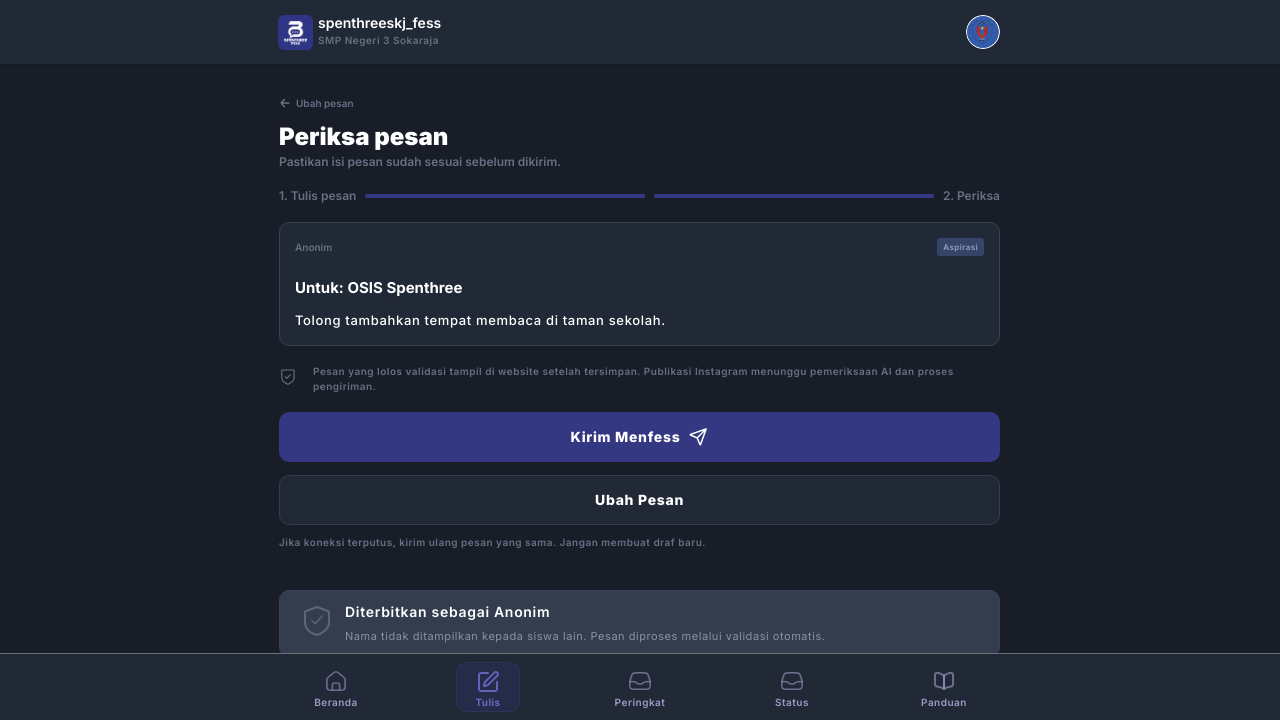
Test: preserved menfess integration › does not infer website publication from a legacy queued receipt
The image size is (1280, 720).
Expected: the text "Publikasi Instagram menunggu pemeriksaan AI" is shown, [313,365,954,392]
Click the button "Kirim Menfess": (640, 437) [279,412,1000,462]
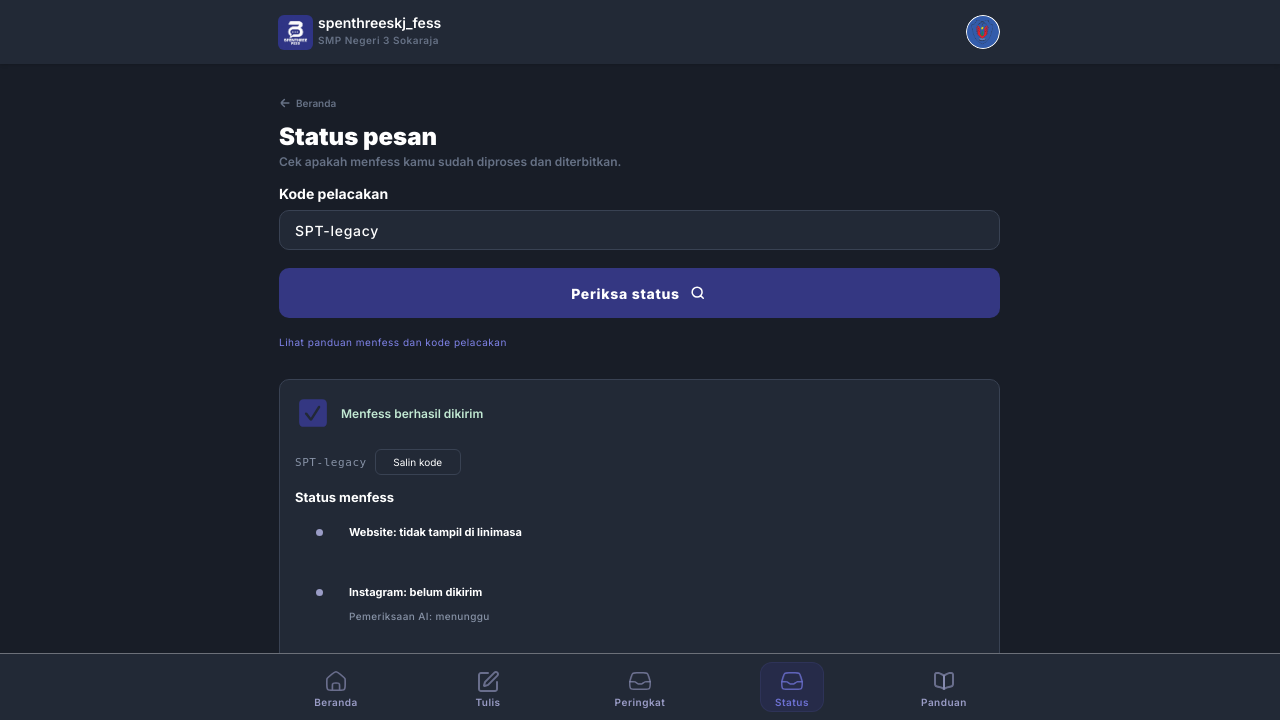
Now the heading "Website: tidak tampil di linimasa" is shown, box [349,525,522,539]
Now the heading "Instagram: belum dikirim" is shown, box [349,585,482,599]
